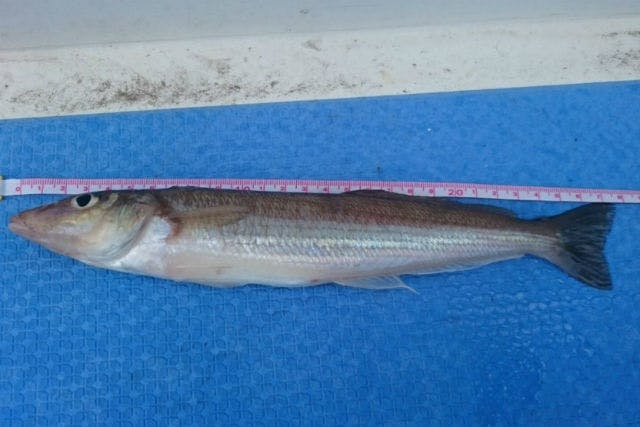kiss: (9, 182, 623, 299)
